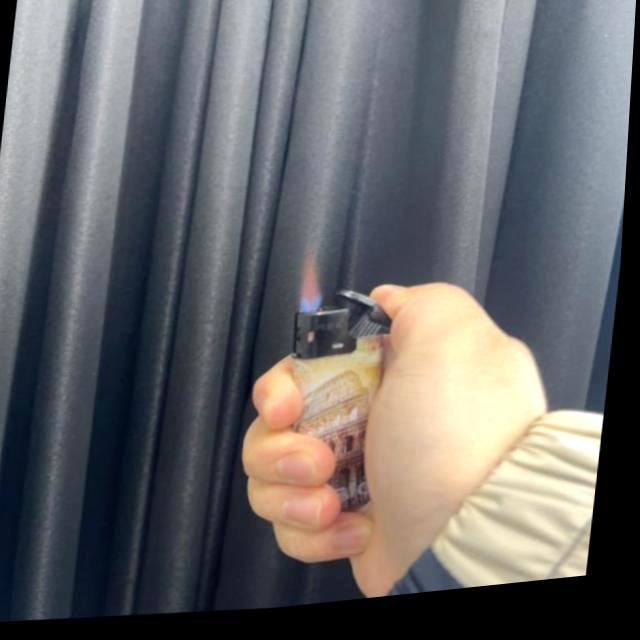fire: (296, 251, 332, 321)
